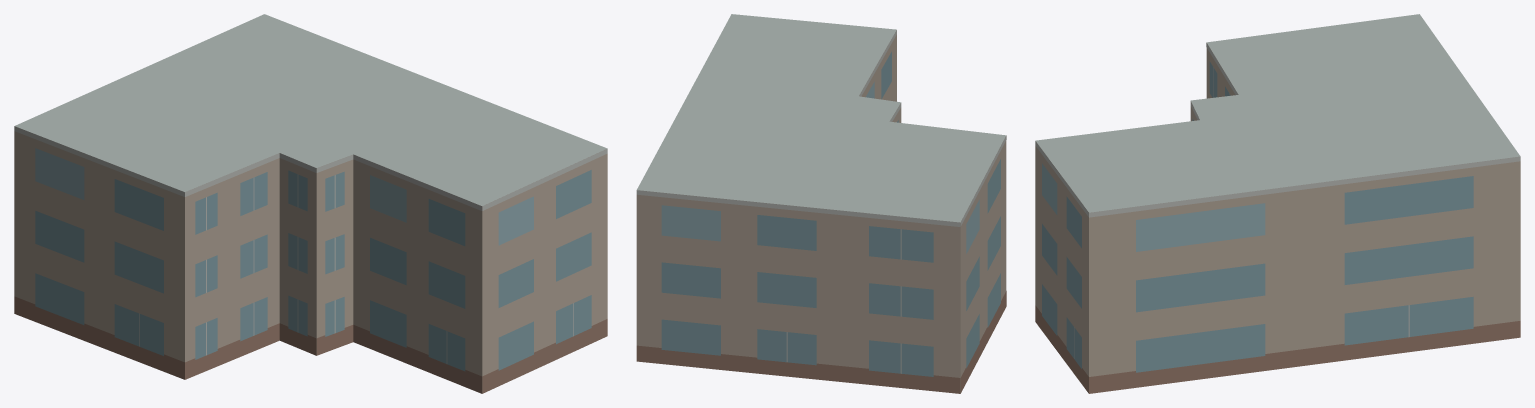
File: survey-upis-32694045.glb
3 views of the same model, side by side, from view 1: azimuth 30°, elevation 25°; view 2: azimuth 150°, elevation 25°; view 3: azimuth 270°, elevation 25° (orthographic). The views are drawn at different scales.
Visible parts, largest first — view 1: survey-upis-32694045.tmp; view 2: survey-upis-32694045.tmp; view 3: survey-upis-32694045.tmp.
Part boxes in pixels (x1=…): survey-upis-32694045.tmp: x1=14, y1=14, x2=607, y2=393; survey-upis-32694045.tmp: x1=636, y1=14, x2=1006, y2=393; survey-upis-32694045.tmp: x1=1035, y1=14, x2=1520, y2=393.
Bounding box in the file's own units: 21.54 × 9.15 × 22.23.
